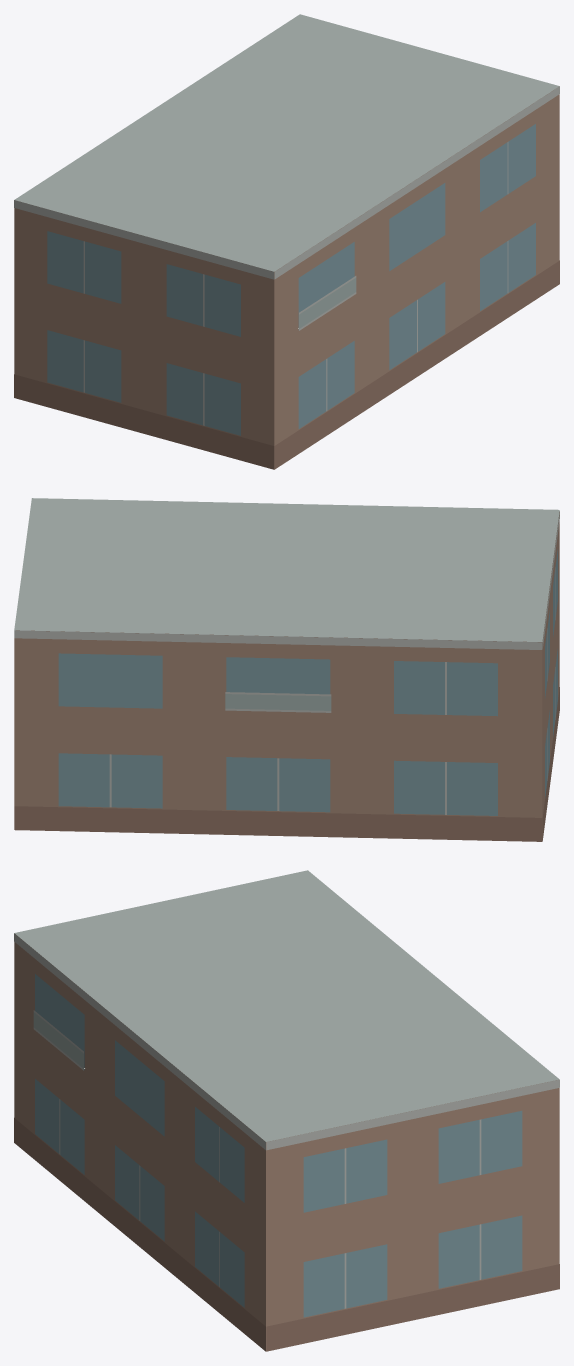
The model's file is survey-upis-32702132.glb.
3 renders of one model, top to bottom at view 1: azimuth 30°, elevation 25°; view 2: azimuth 150°, elevation 25°; view 3: azimuth 270°, elevation 25°, orthographic. The views are drawn at different scales.
Parts seen in each view (by area): view 1: survey-upis-32702132.tmp; view 2: survey-upis-32702132.tmp; view 3: survey-upis-32702132.tmp.
Boxes of the visible parts, <box> form: survey-upis-32702132.tmp: <box>14,14,559,469</box>; survey-upis-32702132.tmp: <box>14,498,559,841</box>; survey-upis-32702132.tmp: <box>14,870,559,1351</box>.
Size of the model in its own units: 16.97 by 6.1 by 14.4.
